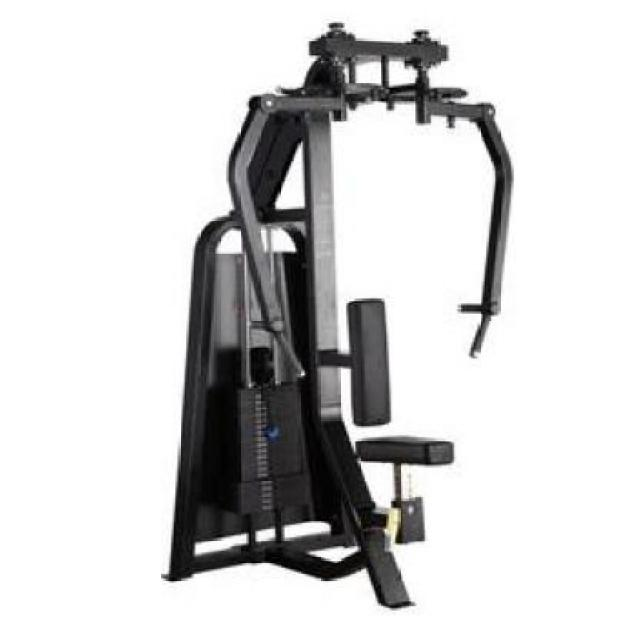chest fly machine: (126, 15, 526, 623)
